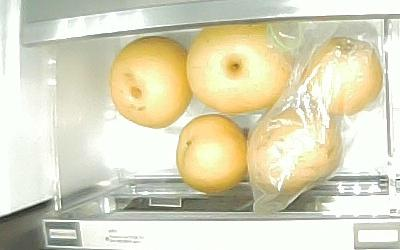pear: (186, 24, 291, 115), (110, 36, 192, 128), (175, 113, 246, 192)
pear_vinyl: (247, 108, 342, 190), (301, 36, 383, 117)
